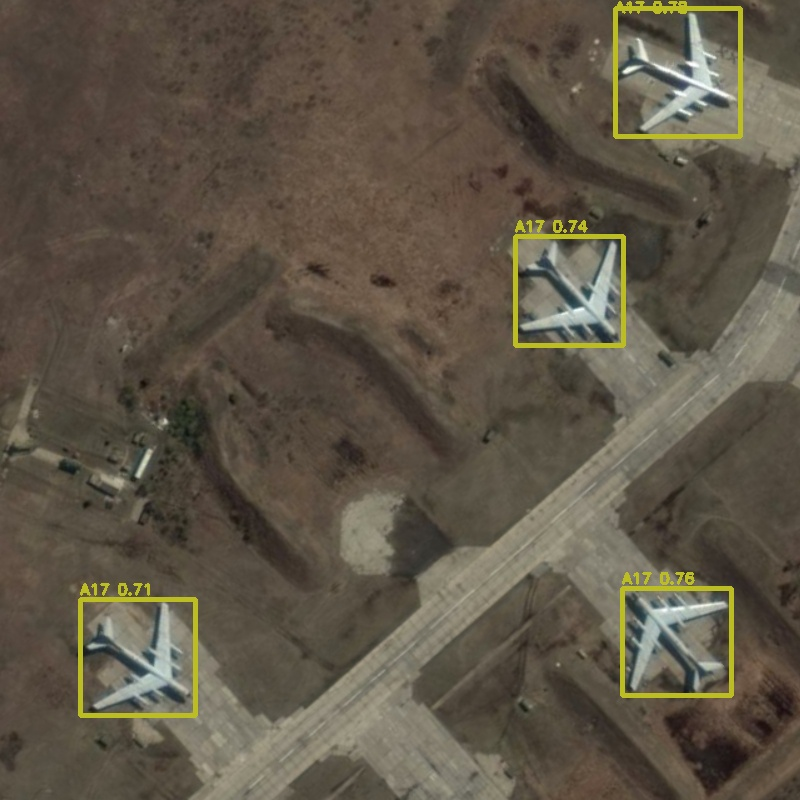A17: (615, 8, 740, 136), (80, 599, 195, 715), (515, 236, 623, 345), (622, 588, 731, 695)
